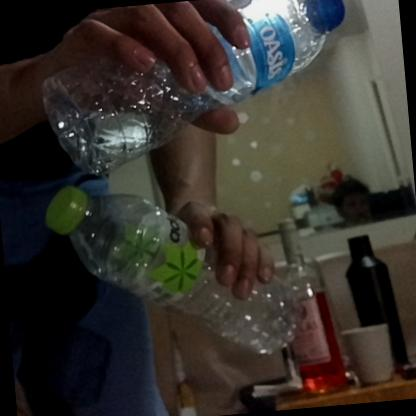plastic_bottles: (33, 0, 356, 178), (41, 164, 307, 374)
